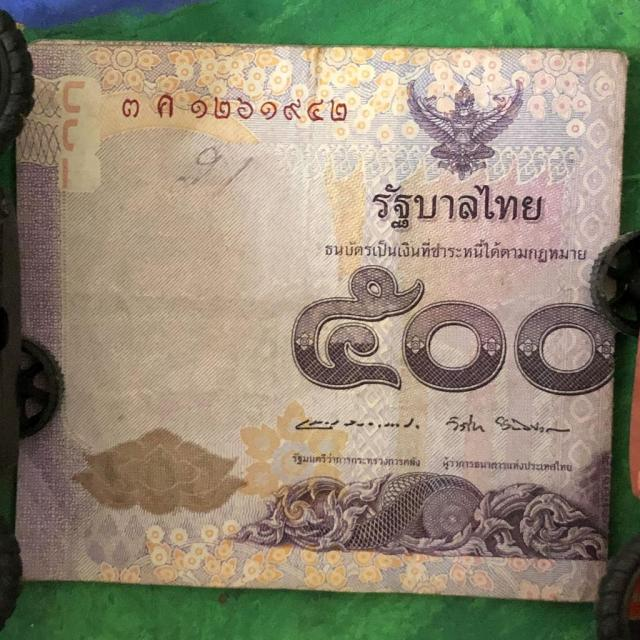THAI500: (18, 41, 627, 601)
